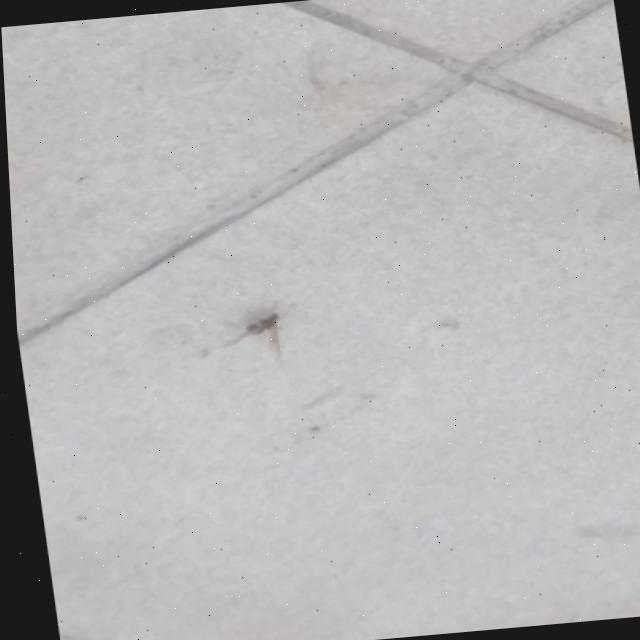Alive-Male-Alate: (215, 304, 290, 364)
